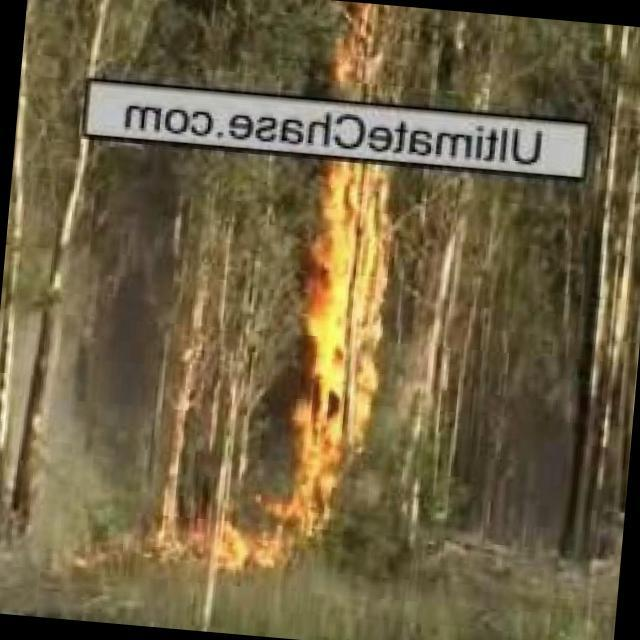Fire: (295, 162, 392, 453), (158, 442, 352, 580), (323, 5, 384, 88)
